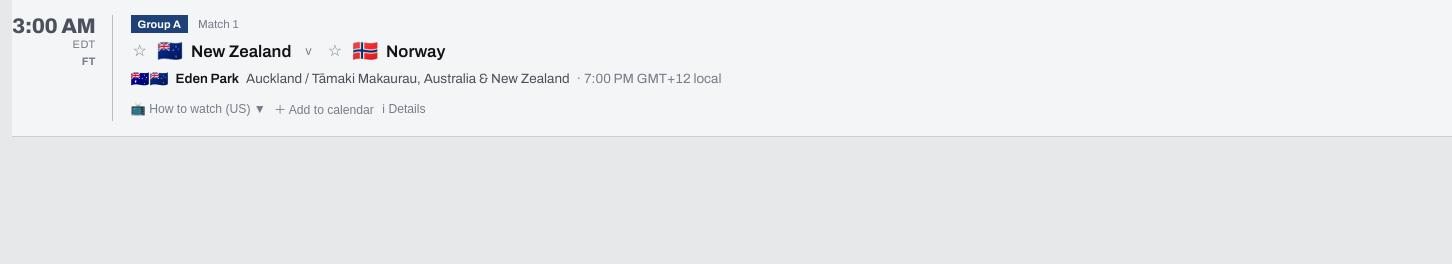
Test: MatchCard actions / watch / venue › feed="english" shows only english
The width and height of the screenshot is (1452, 264).
Step 1. Click the button "📺 How to watch (US) ▼" → x=198, y=109, box left=131, top=98, right=266, bottom=121
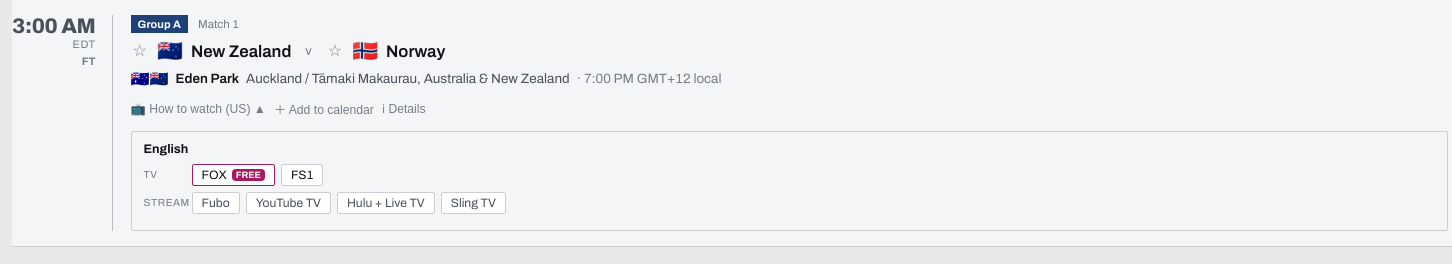
Check: the text "English" is shown, box left=144, top=142, right=188, bottom=156
